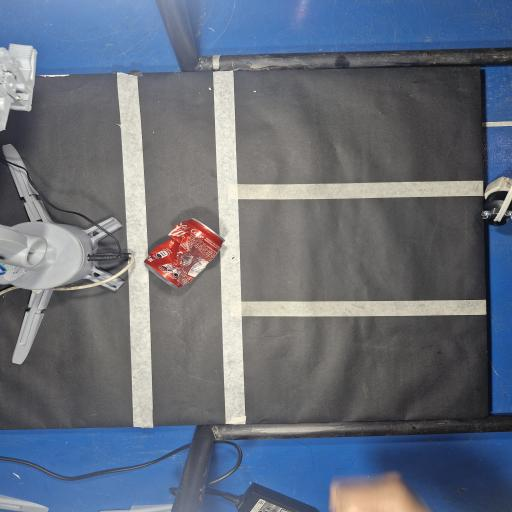lata_defectuoso: (145, 219, 223, 287)
